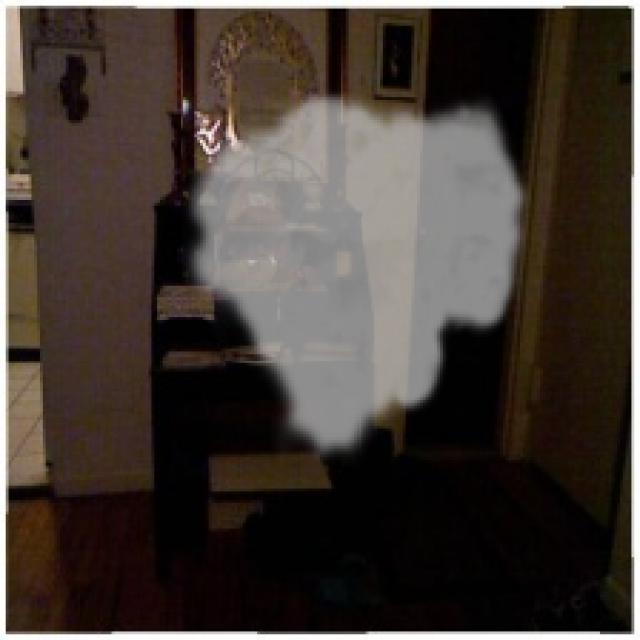smoke: (177, 88, 532, 466)
